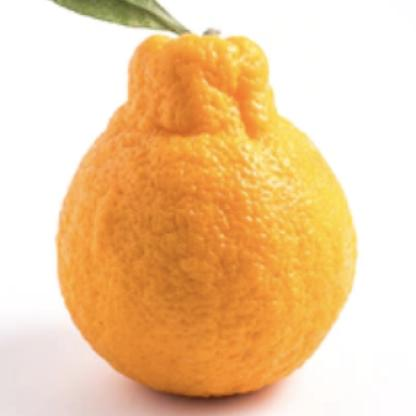fresh: (55, 31, 356, 401)
